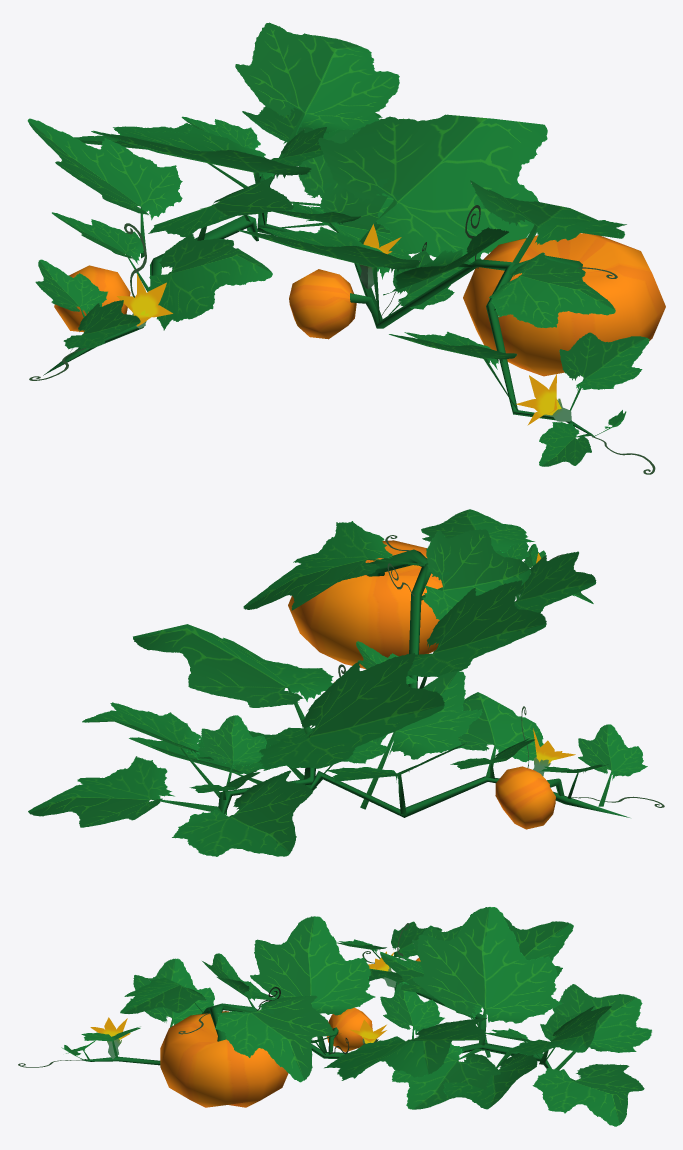
The model's file is PT_Pumpkin_01.fbx.
3 renders of one model, top to bottom at view 1: azimuth 30°, elevation 25°; view 2: azimuth 150°, elevation 25°; view 3: azimuth 270°, elevation 25°, orthographic. The views are drawn at different scales.
Visible parts, largest first — view 1: PT_Pumpkin_01_LOD0; view 2: PT_Pumpkin_01_LOD0; view 3: PT_Pumpkin_01_LOD0.
Part boxes in pixels (left/top/right/bottom): PT_Pumpkin_01_LOD0: left=27, top=22, right=665, bottom=474; PT_Pumpkin_01_LOD0: left=28, top=509, right=664, bottom=856; PT_Pumpkin_01_LOD0: left=18, top=907, right=651, bottom=1126.
Size of what is drawn, in the model's own units: 185 by 49.19 by 267.
